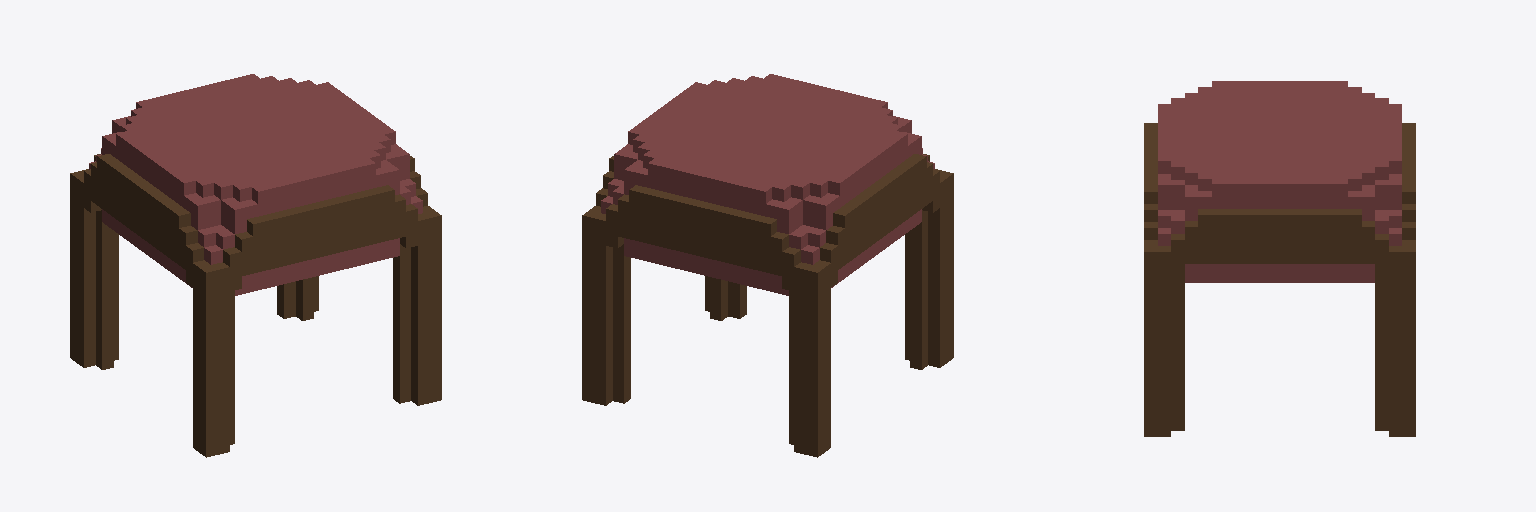
3 renders of one model, left to right at view 1: azimuth 30°, elevation 25°; view 2: azimuth 150°, elevation 25°; view 3: azimuth 270°, elevation 25°, orthographic.
Visible parts, largest first — view 1: object 1; view 2: object 1; view 3: object 1.
Part boxes in pixels (x1,y1,x2,y2): object 1: (70,74,441,457); object 1: (582,74,953,457); object 1: (1144,81,1415,436).
Bounding box in the file's own units: 2 × 2 × 2.
1 materials, 1 textured.